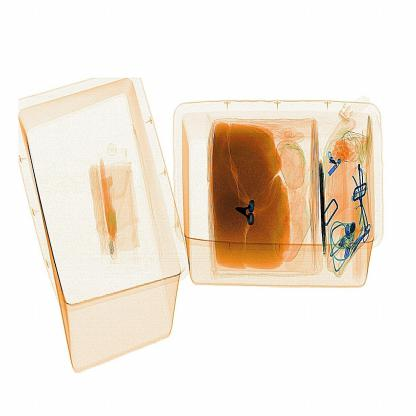gun: (232, 191, 264, 232)
